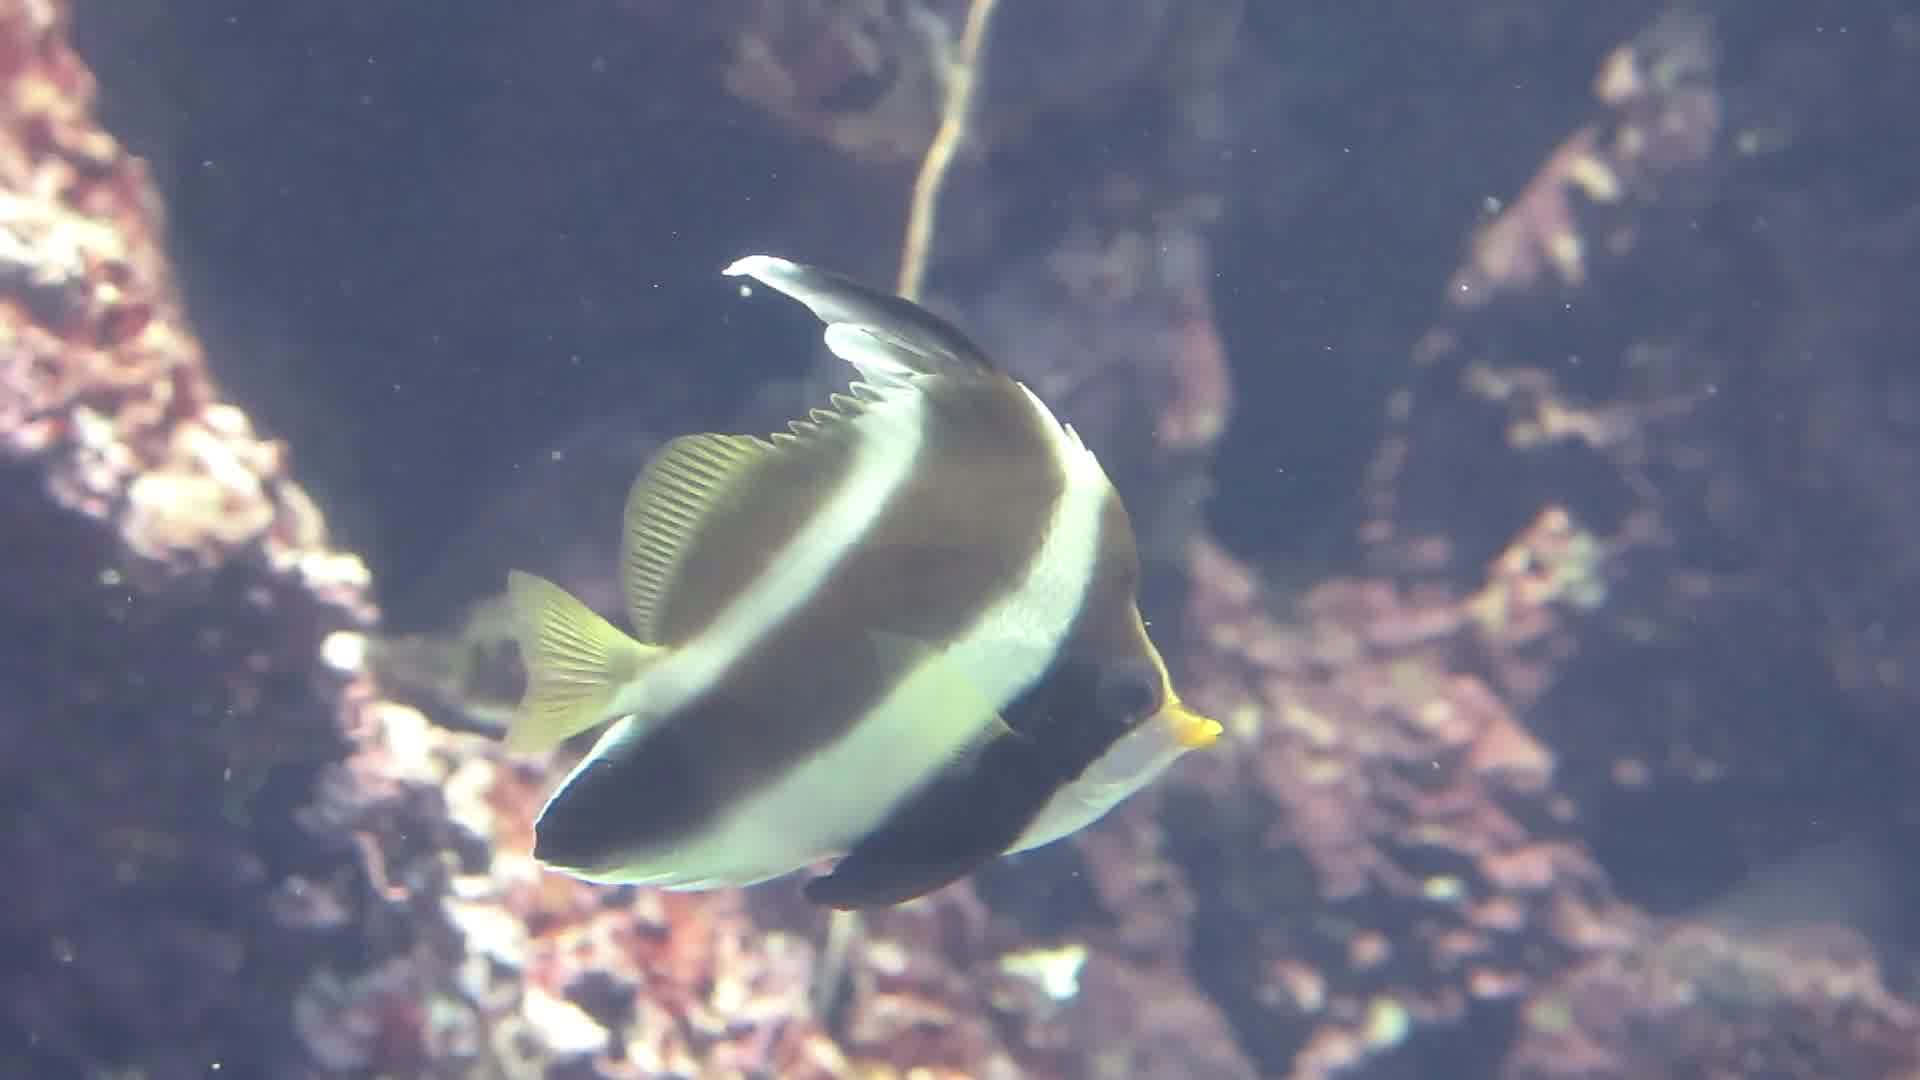Heniochus chrysostomus: (501, 142, 1259, 990)
